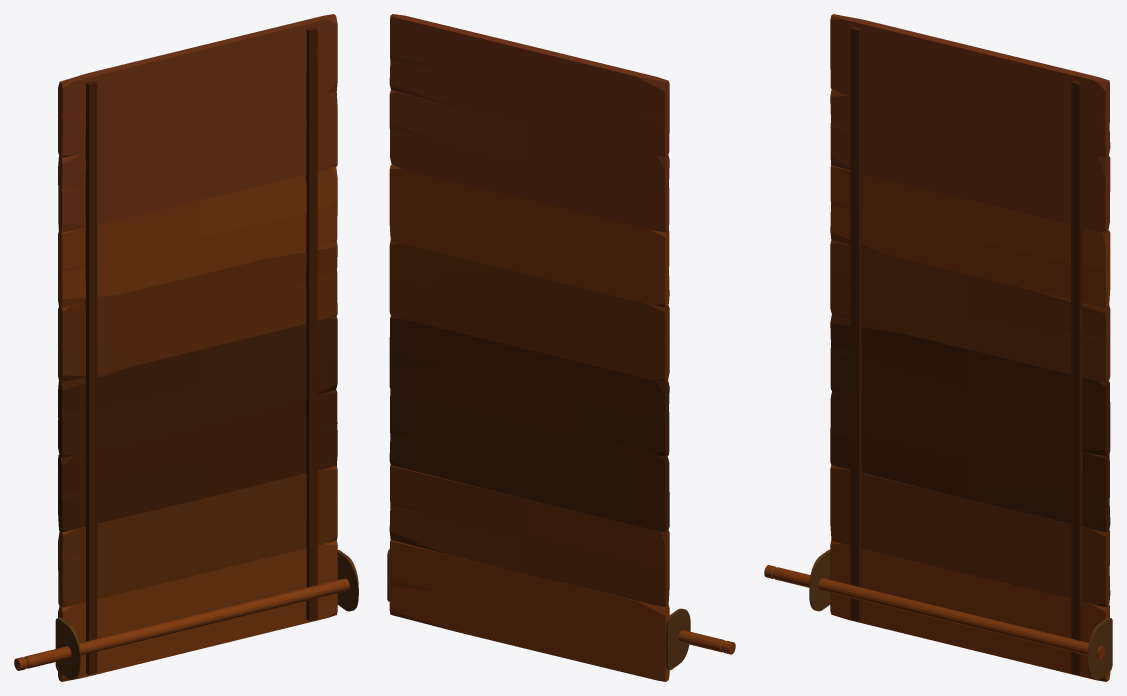
The model's file is FBX_ENV_RUIN_ZUGBRUECKE_ANIMATION.fbx.
3 views of the same model, side by side, from view 1: azimuth 30°, elevation 25°; view 2: azimuth 150°, elevation 25°; view 3: azimuth 330°, elevation 25° (orthographic).
Parts seen in each view (by area): view 1: Cube.027; view 2: Cube.027; view 3: Cube.027.
Boxes of the visible parts, x1,y1,x2,y2 form: Cube.027: (14, 14, 358, 681); Cube.027: (387, 14, 735, 681); Cube.027: (764, 14, 1112, 681).
Bounding box in the file's own units: 182 × 312 × 22.89.
